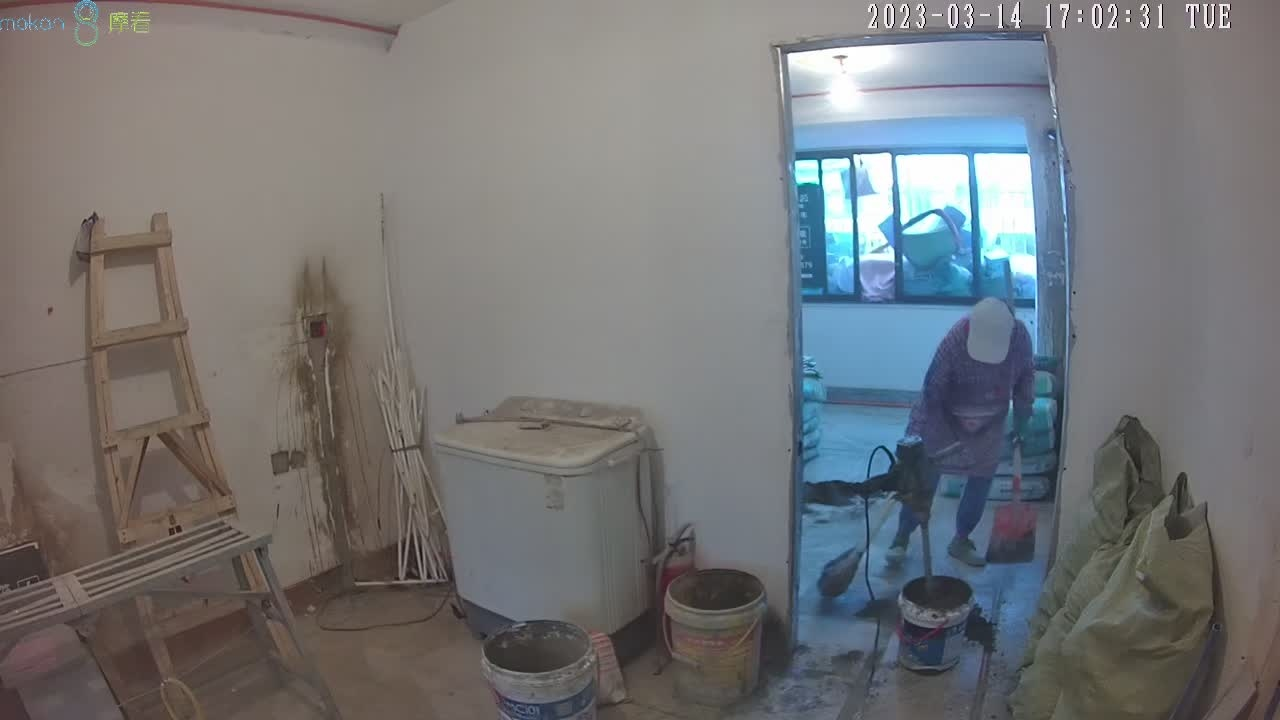people: (885, 296, 1037, 574)
window: (796, 152, 1039, 307)
